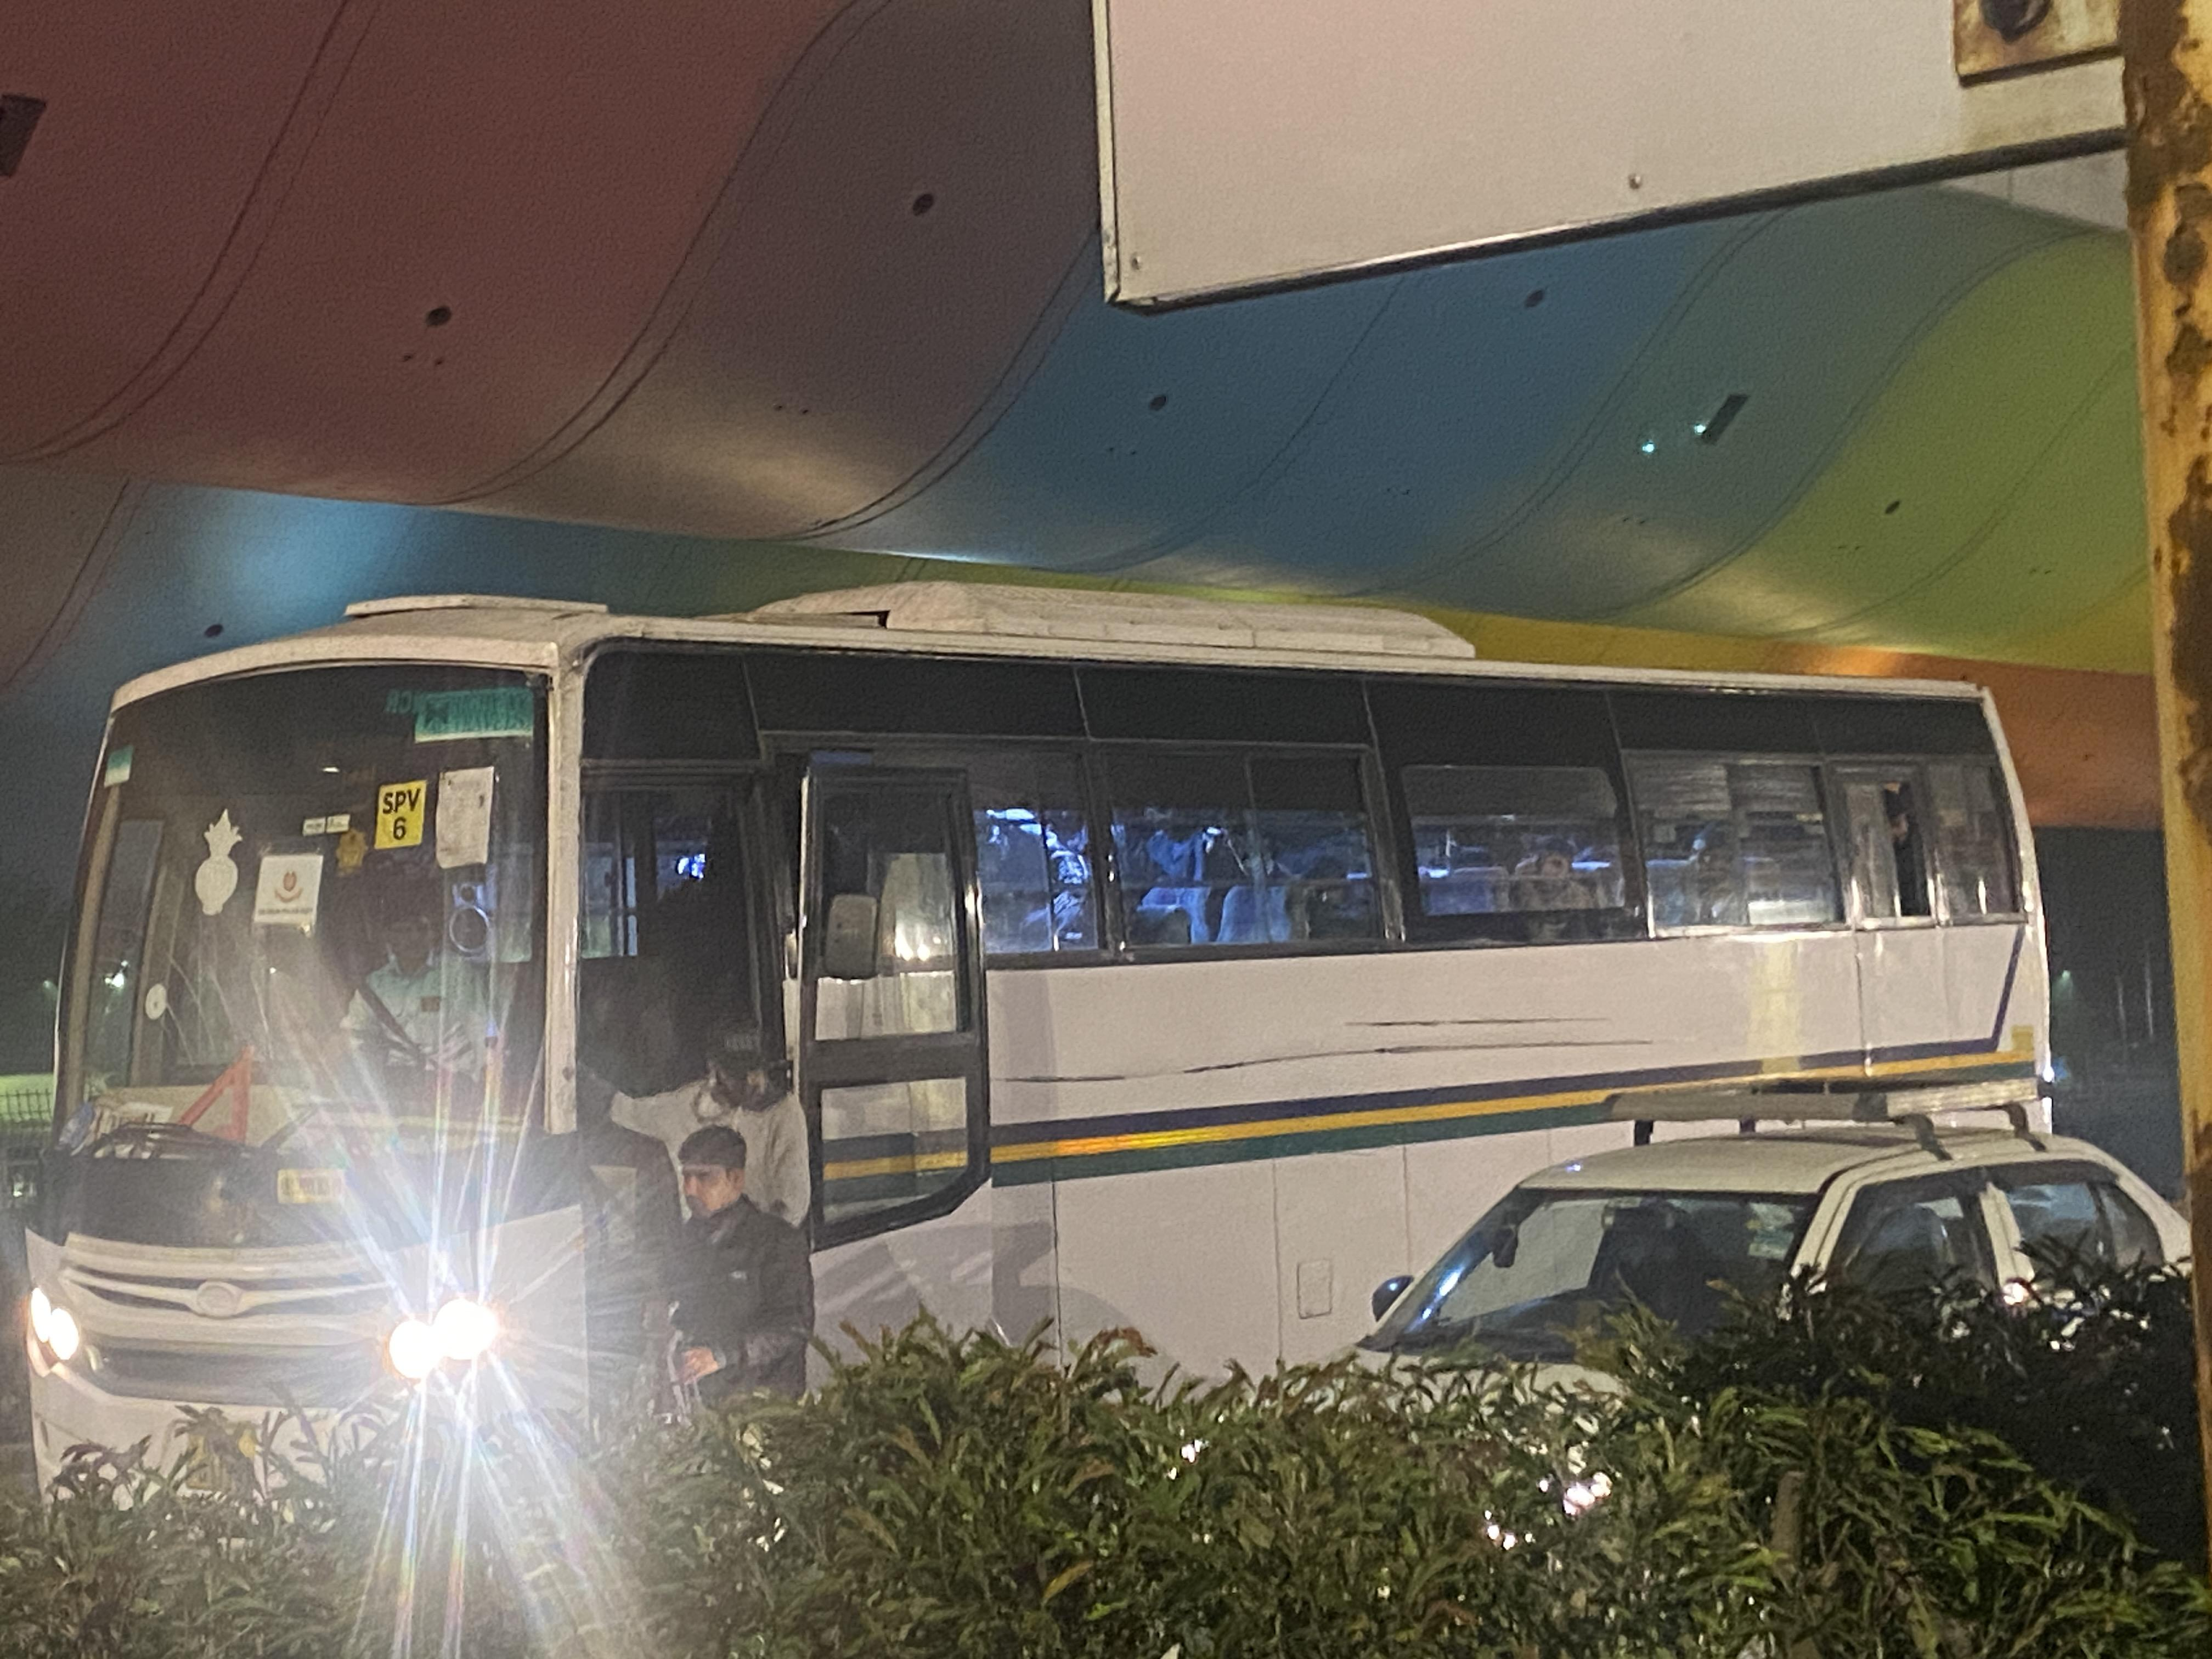Bus: (71, 577, 2057, 1420)
